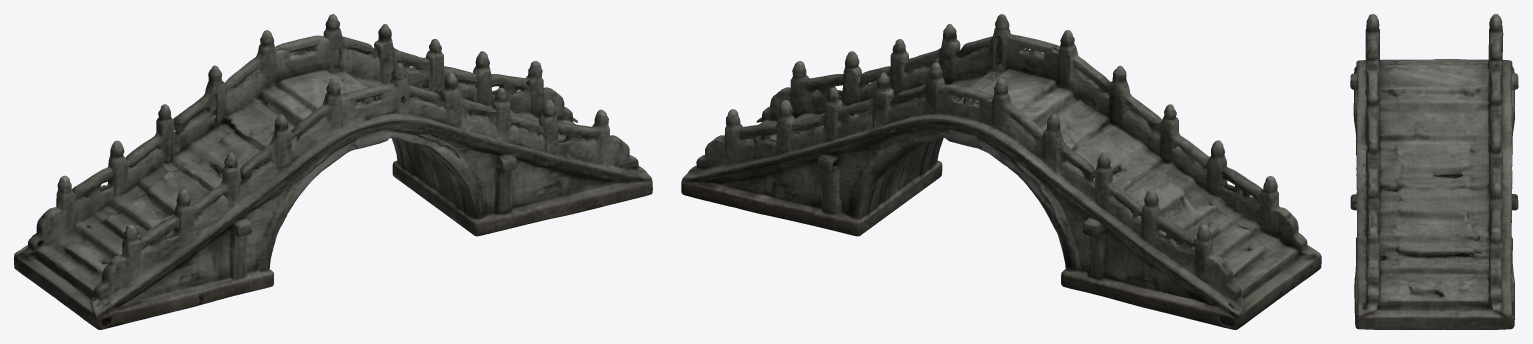
Rendered from stone-bridge.glb.
3 views of the same model, side by side, from view 1: azimuth 30°, elevation 25°; view 2: azimuth 150°, elevation 25°; view 3: azimuth 270°, elevation 25° (orthographic). The views are drawn at different scales.
Parts seen in each view (by area): view 1: world; view 2: world; view 3: world.
Part boxes in pixels (box(x1,y1,x2,y2)): world: box(14, 14, 652, 329); world: box(681, 14, 1321, 329); world: box(1350, 14, 1518, 329).
Bounding box in the file's own units: 8 × 2.55 × 2.25.
Materials: 1 (1 with a texture image).
